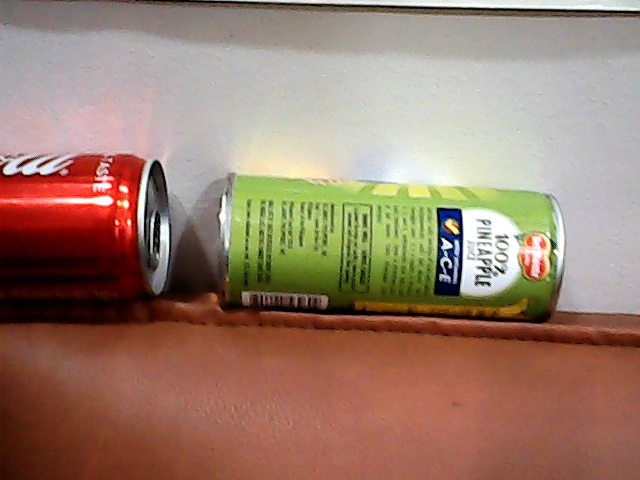Cola: (1, 144, 185, 311)
Pine Juice: (214, 157, 578, 338)
